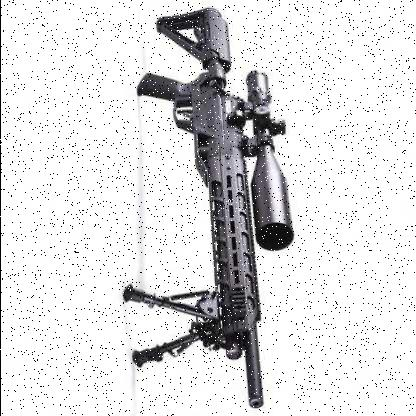rifle: (88, 11, 292, 415)
